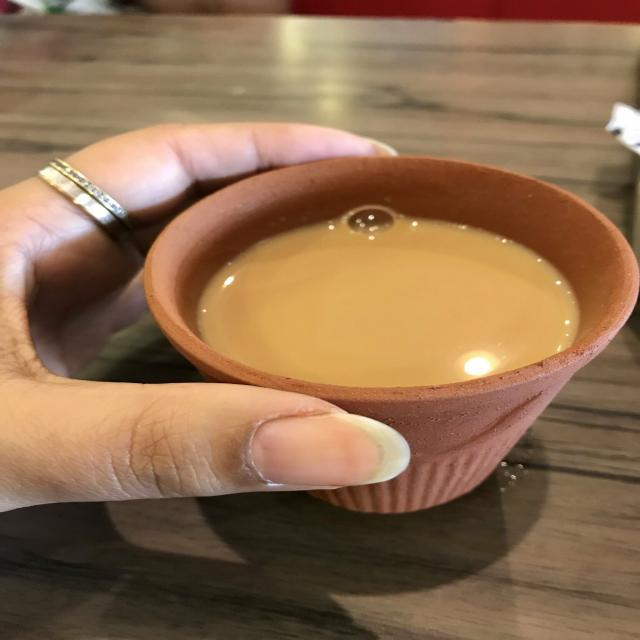Chai: (199, 202, 577, 387)
